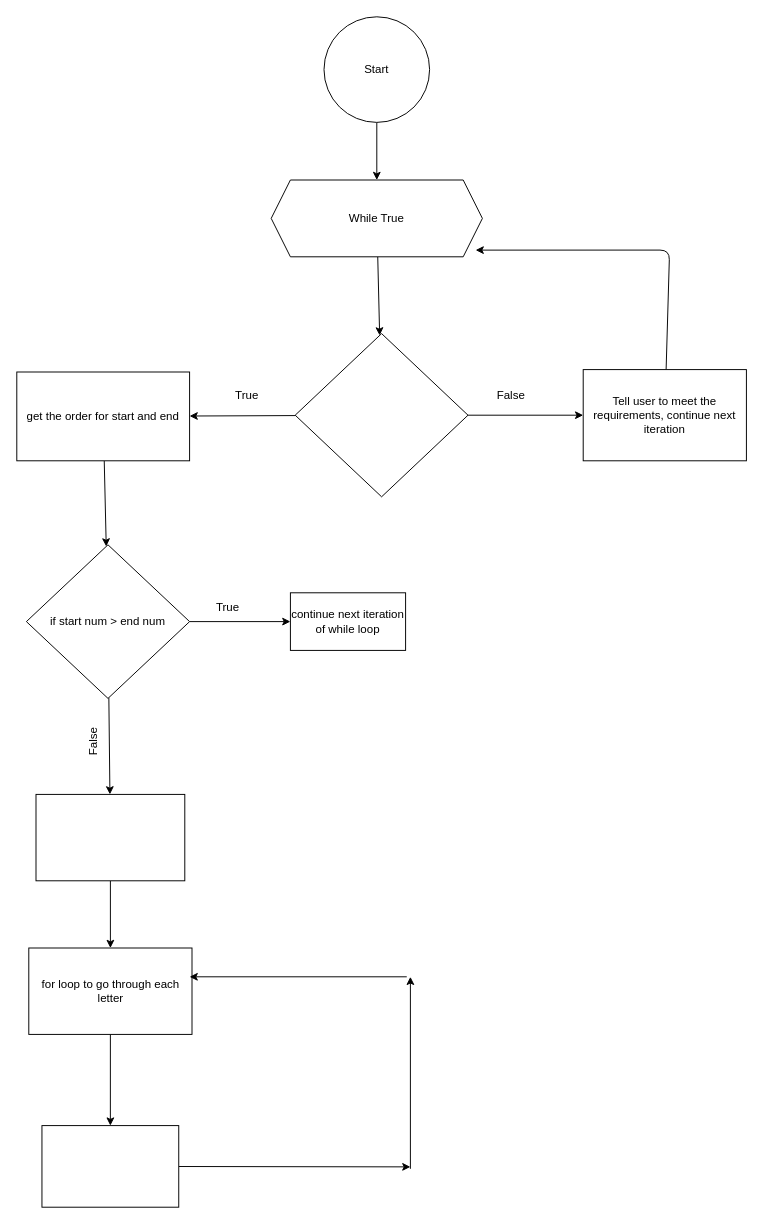
Image size: 763x1224. Some labels were removed from this diagram. Each missing label, with the box of its shape:
break while loop: (35, 793, 185, 881)
If the start and end is only 1 letter and is in the alphabet: (294, 333, 468, 497)
use chr() function to append letter: (41, 1125, 179, 1207)
